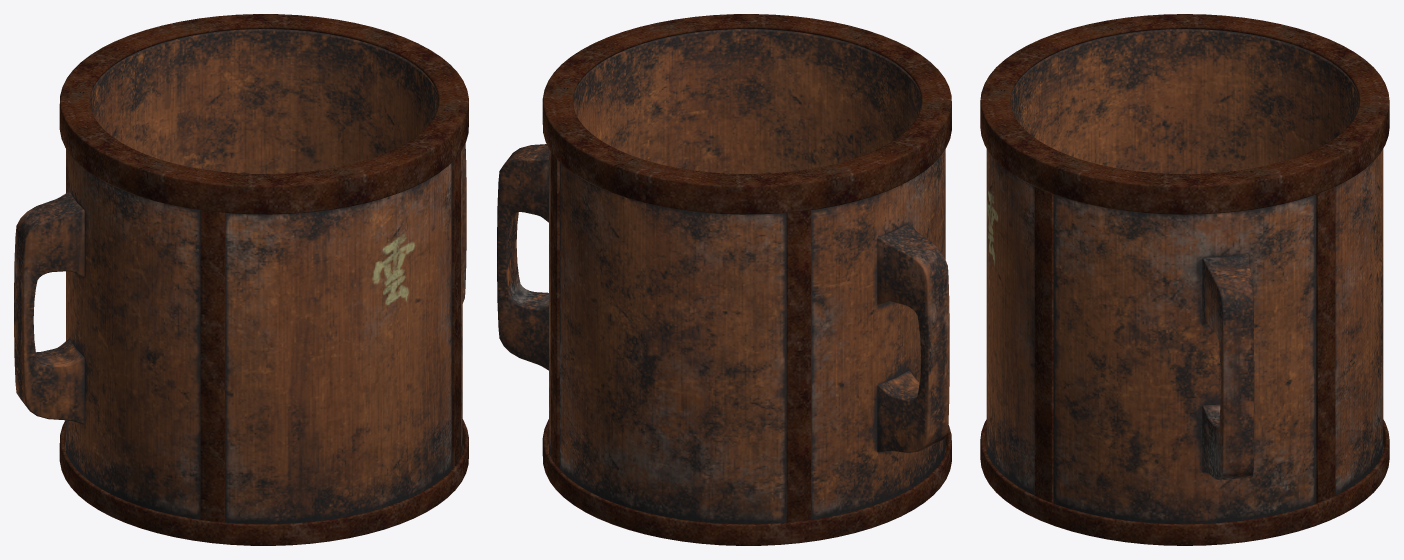
File: SM_Mal.fbx
The picture shows the model from 3 angles, left to right: view 1: azimuth 30°, elevation 25°; view 2: azimuth 150°, elevation 25°; view 3: azimuth 270°, elevation 25°; orthographic projection.
Visible parts, largest first — view 1: SM_Mal; view 2: SM_Mal; view 3: SM_Mal.
Part boxes in pixels (box(x1,y1,x2,y2)): SM_Mal: box(14, 14, 468, 545); SM_Mal: box(497, 14, 951, 545); SM_Mal: box(980, 14, 1389, 545).
Size of the model in its own units: 39.54 by 30.7 by 31.63.
Materials: 1 (1 with a texture image).
